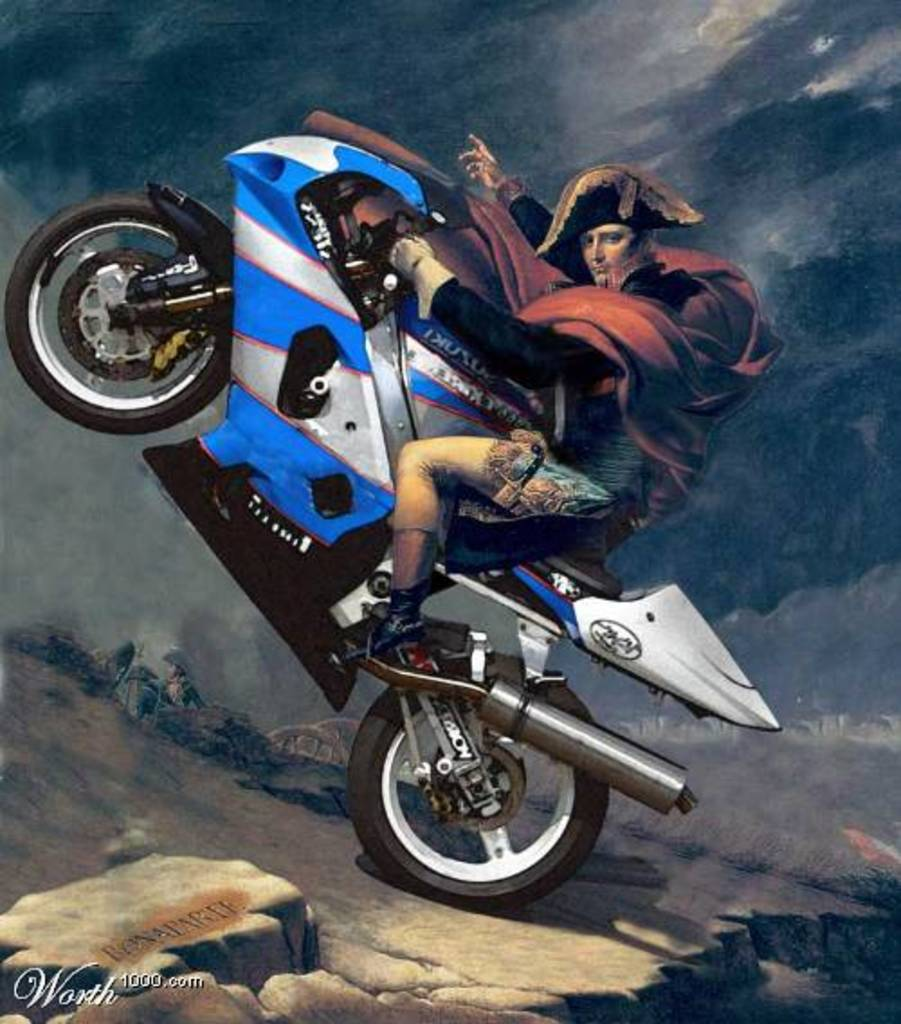Person: (329, 133, 786, 666)
